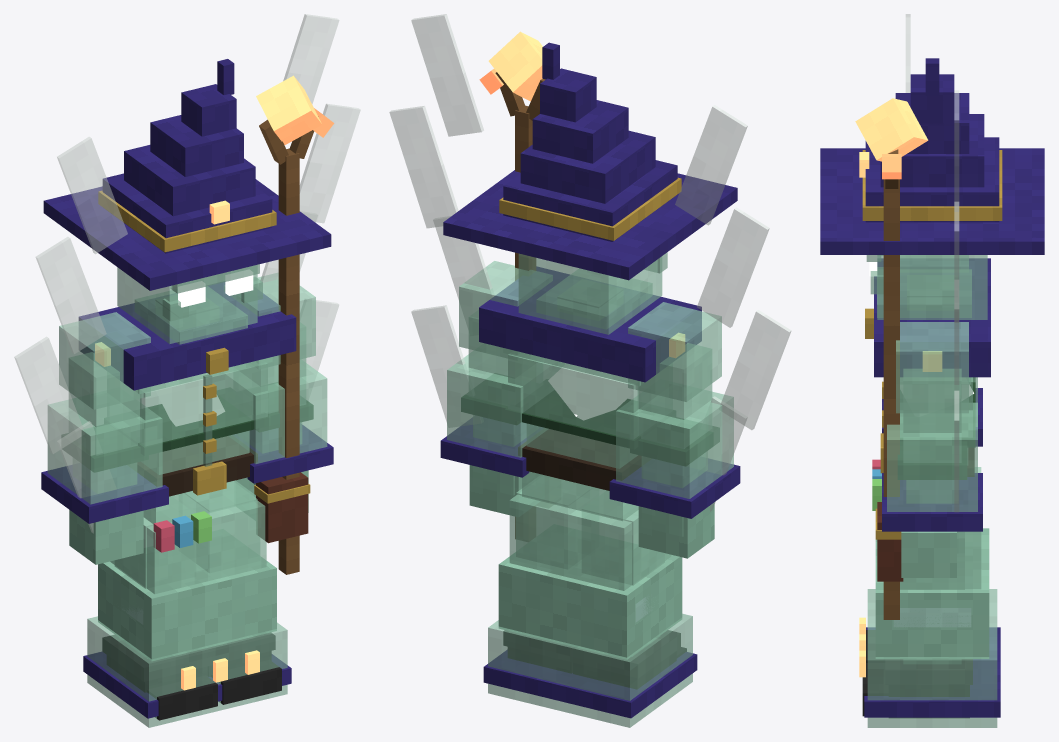
Rendered from spirit_mage_v3.glb.
The picture shows the model from 3 angles, left to right: view 1: azimuth 30°, elevation 25°; view 2: azimuth 150°, elevation 25°; view 3: azimuth 270°, elevation 25°; orthographic projection. The views are drawn at different scales.
Parts seen in each view (by area): view 1: Torso, Head, Root, ArmR, ArmL, HandL, LegR, LegL; view 2: Torso, Head, Root, ArmR, ArmL, LegR, LegL, HandL; view 3: Head, Root, ArmL, Torso, HandL, LegL, ArmR.
Part boxes in pixels (x1,y1,x2,y2): Torso: (14,14,360,552); Head: (43,59,331,344); Root: (83,493,291,727); ArmR: (41,312,168,564); ArmL: (213,273,333,512); HandL: (256,75,334,574); LegR: (102,496,217,720); LegL: (184,481,281,704); Torso: (389,14,791,521); Head: (443,42,737,334); Root: (483,488,697,727); ArmR: (609,302,740,558); ArmL: (440,261,561,516); LegR: (573,491,686,689); LegL: (503,475,593,673); HandL: (479,31,545,538); Head: (820,58,1044,319); Root: (859,467,1000,727); ArmL: (882,322,982,577); Torso: (865,14,990,581); HandL: (855,98,928,619); LegL: (862,531,972,716); ArmR: (882,255,982,446).
Bounding box in the file's own units: 1.38 × 2.27 × 0.69.
Materials: 28 (28 with a texture image).
